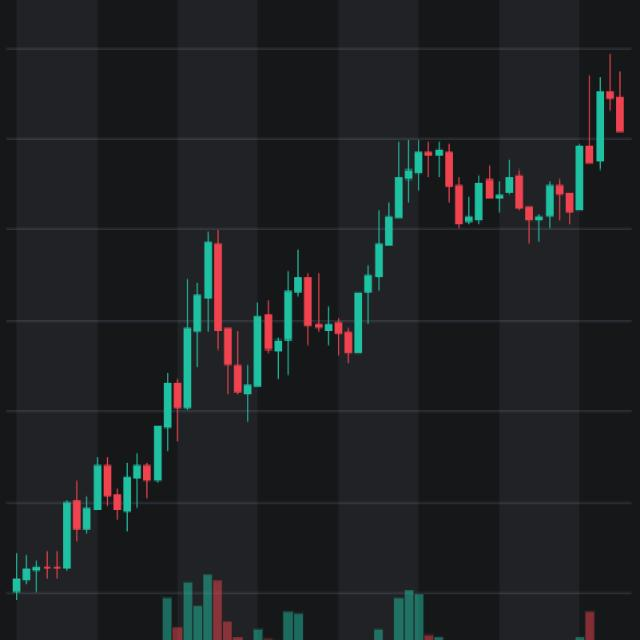Resistance-breakout: (250, 116, 450, 389)
